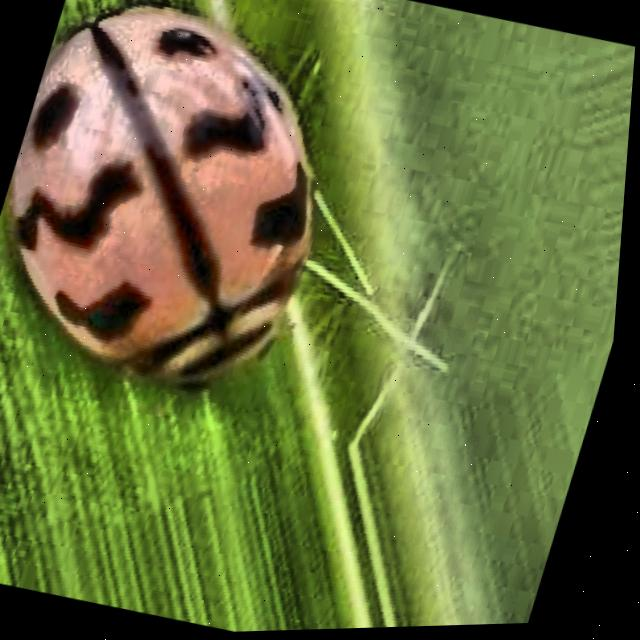Asian-Lady-beetle: (0, 0, 409, 458)
